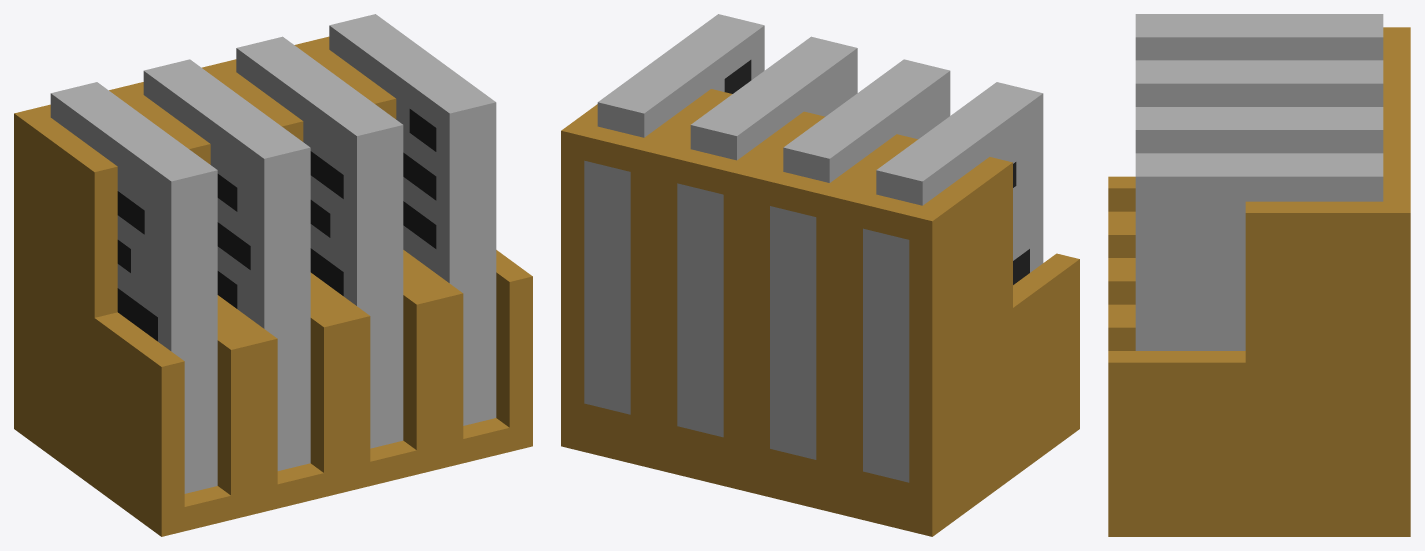
File: files_box_03.glb
The picture shows the model from 3 angles, left to right: view 1: azimuth 30°, elevation 25°; view 2: azimuth 150°, elevation 25°; view 3: azimuth 270°, elevation 25°; orthographic projection. The views are drawn at different scales.
Parts seen in each view (by area): view 1: Untitled; view 2: Untitled; view 3: Untitled.
Boxes of the visible parts, x1,y1,x2,y2 form: Untitled: [14, 14, 532, 536]; Untitled: [561, 14, 1079, 536]; Untitled: [1108, 14, 1410, 536].
Bounding box in the file's own units: 0.48 × 0.42 × 0.33.
Materials: 1 (1 with a texture image).
